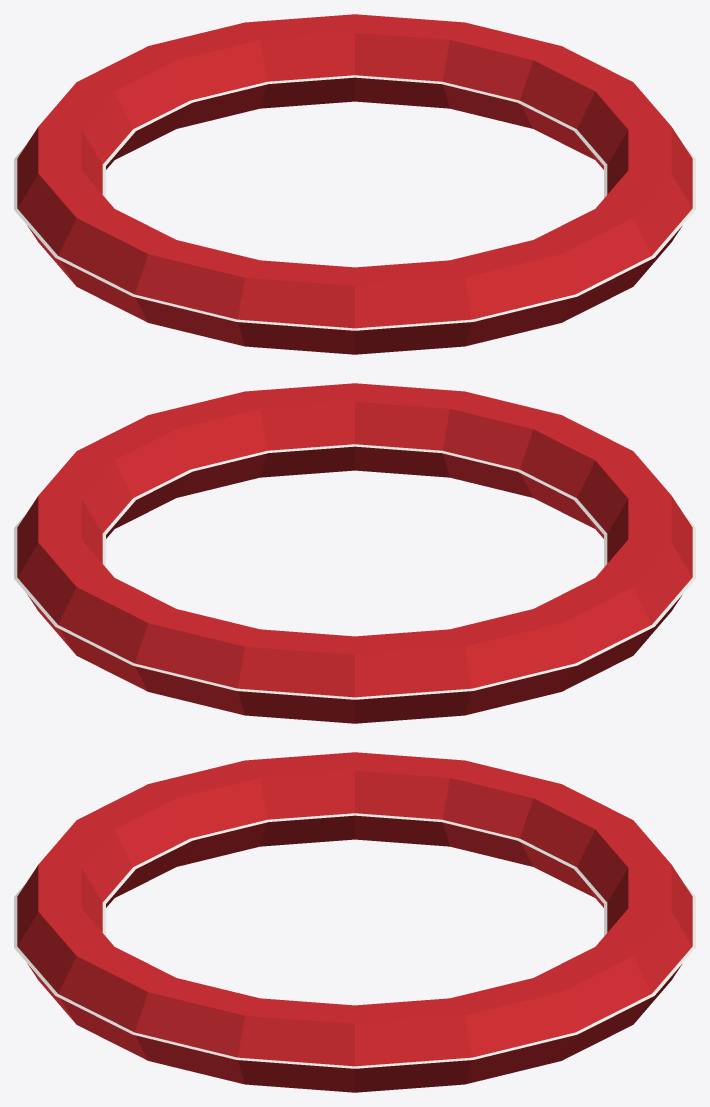
Rendered from disguise_gym_headband.glb.
3 renders of one model, top to bottom at view 1: azimuth 30°, elevation 25°; view 2: azimuth 150°, elevation 25°; view 3: azimuth 270°, elevation 25°, orthographic.
Visible parts, largest first — view 1: band_gym_red, stripe_gym_white; view 2: band_gym_red, stripe_gym_white; view 3: band_gym_red, stripe_gym_white.
Boxes of the visible parts, <box> form: band_gym_red: <box>17,14,692,354</box>; stripe_gym_white: <box>14,75,695,330</box>; band_gym_red: <box>17,383,692,723</box>; stripe_gym_white: <box>14,444,695,699</box>; band_gym_red: <box>17,752,692,1092</box>; stripe_gym_white: <box>14,813,695,1068</box>.
Size of the model in its own units: 0.474 by 0.052 by 0.4668.
